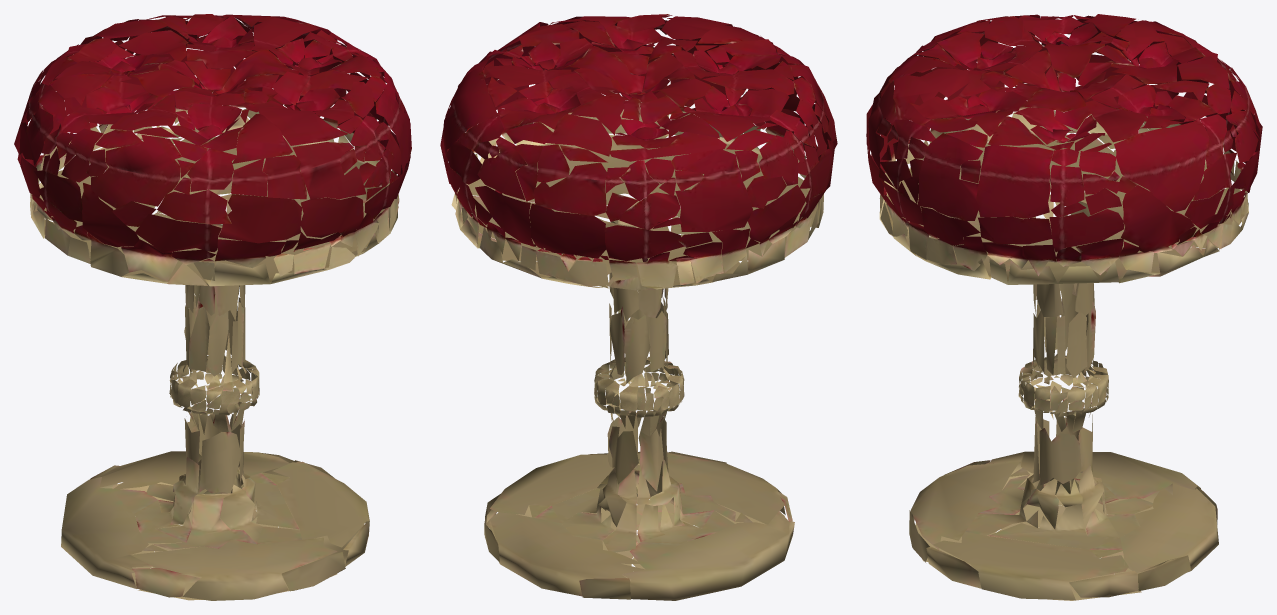
Rendered from stool.glb.
The picture shows the model from 3 angles, left to right: view 1: azimuth 30°, elevation 25°; view 2: azimuth 150°, elevation 25°; view 3: azimuth 270°, elevation 25°; orthographic projection.
Visible parts, largest first — view 1: Mesh_0; view 2: Mesh_0; view 3: Mesh_0.
Boxes of the visible parts, x1,y1,x2,y2 form: Mesh_0: (14,14,411,600); Mesh_0: (440,14,837,600); Mesh_0: (866,14,1262,600).
Bounding box in the file's own units: 0.7671 × 1 × 0.7703.
Materials: 1 (1 with a texture image).
